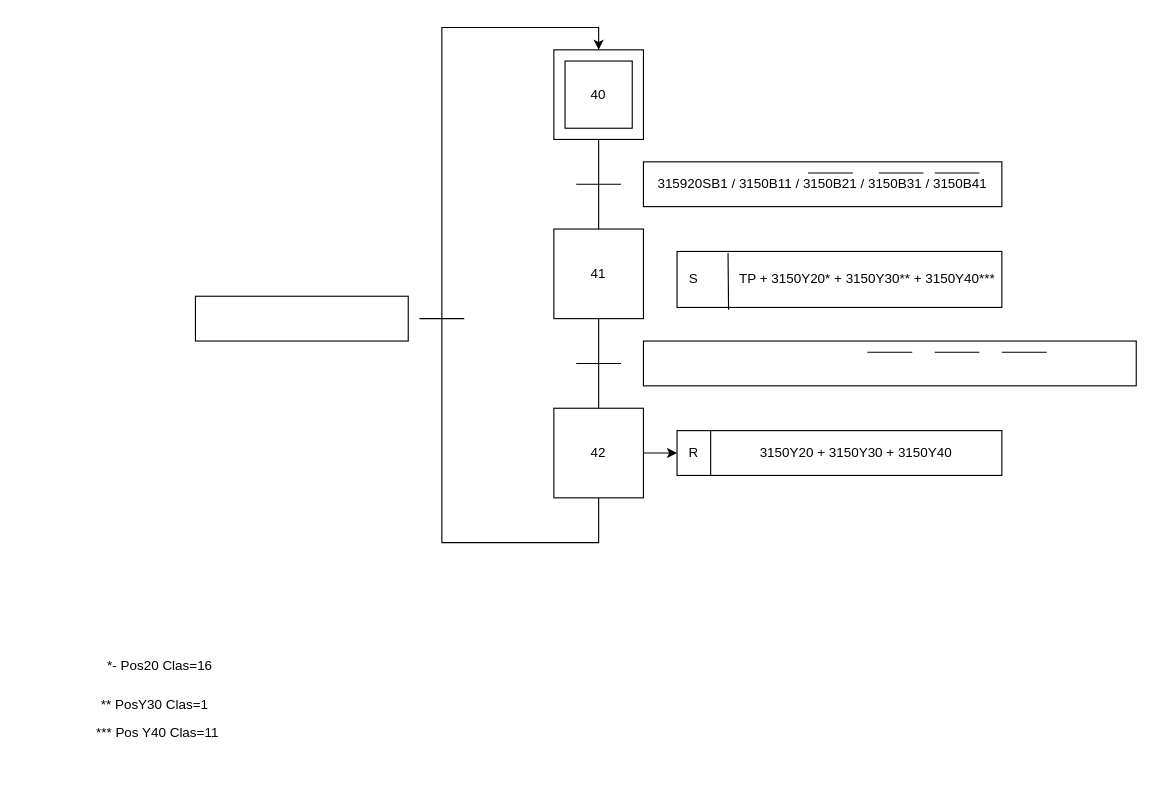
Some shapes in this 1156 by 809 pixel diagram are drawn without their labels. Each missing label, with the centre of its shape:
"3150B21 * 3150B31 * 3150B41" belongs at pixel 301 318.
"3150B21 + 3150B31 + 3150B41 + 3150B21 * 3150B31 * 3150B41 * PS 7050" belongs at pixel 889 363.
